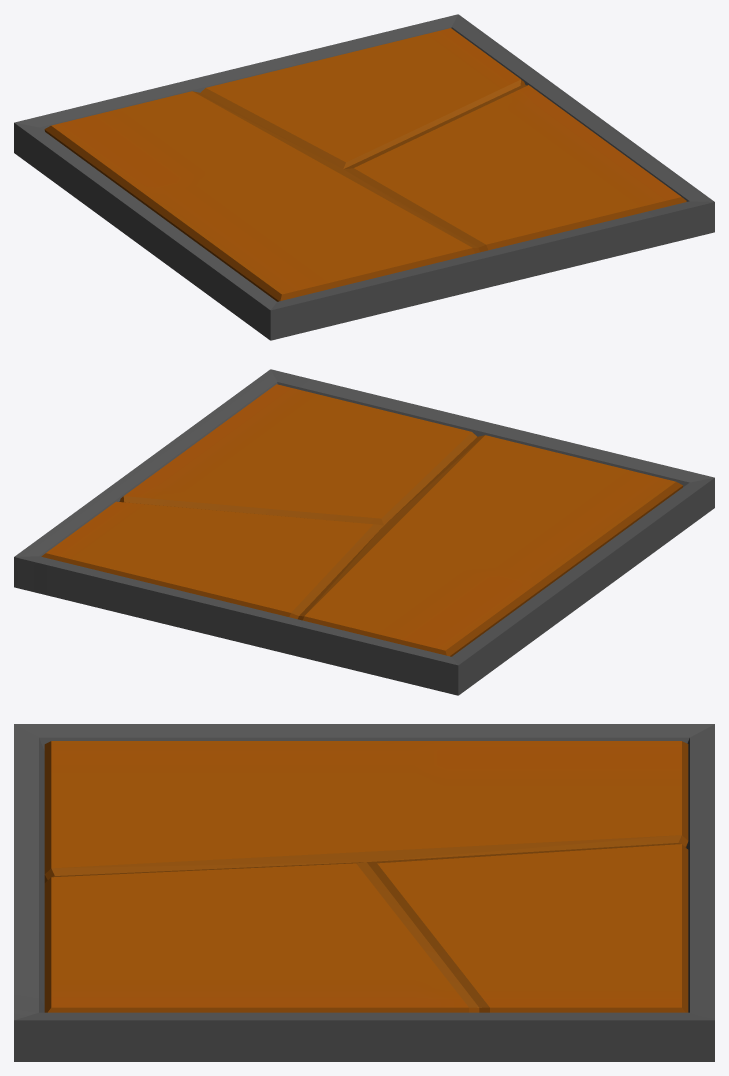
Rendered from Ceiling 2x2M.glb.
The picture shows the model from 3 angles, top to bottom: view 1: azimuth 30°, elevation 25°; view 2: azimuth 150°, elevation 25°; view 3: azimuth 270°, elevation 25°; orthographic projection. The views are drawn at different scales.
Parts seen in each view (by area): view 1: FloorCeiling_2x2; view 2: FloorCeiling_2x2; view 3: FloorCeiling_2x2.
Part boxes in pixels (x1,y1,x2,y2): FloorCeiling_2x2: (14, 14, 714, 340); FloorCeiling_2x2: (14, 369, 714, 695); FloorCeiling_2x2: (14, 724, 714, 1061).
Size of what is drawn, in the model's own units: 2 by 0.1305 by 2.
Materials: 1 (1 with a texture image).
